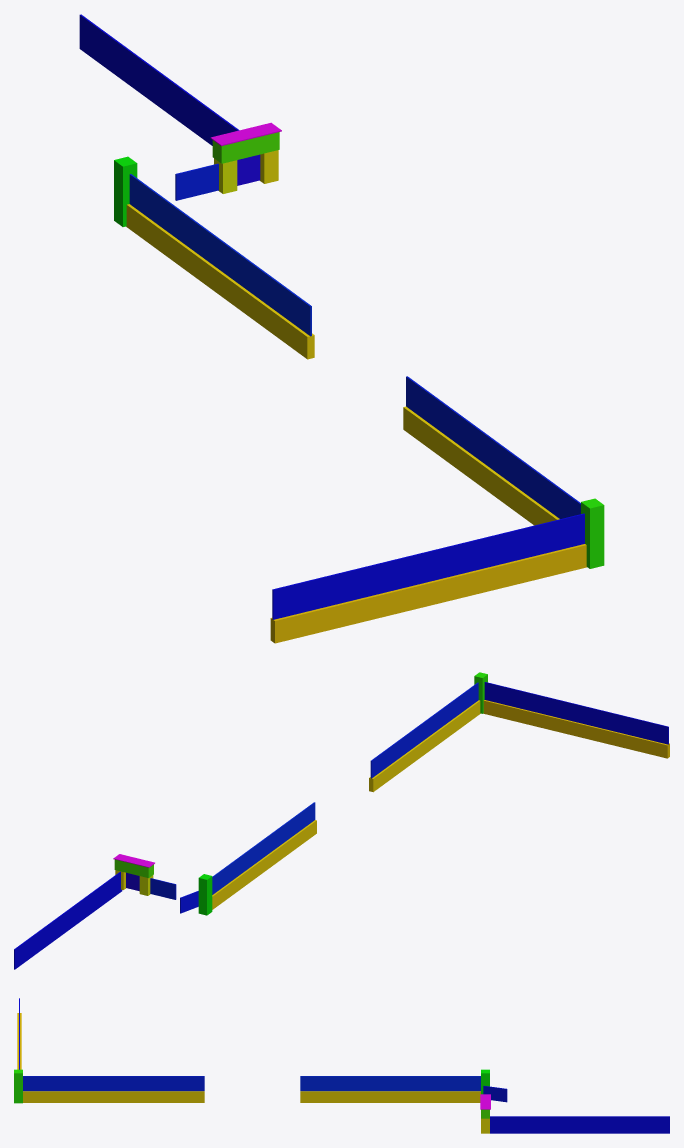
The model's file is colegio.fbx.
The picture shows the model from 3 angles, top to bottom: view 1: azimuth 30°, elevation 25°; view 2: azimuth 150°, elevation 25°; view 3: azimuth 270°, elevation 25°; orthographic projection. The views are drawn at different scales.
Parts seen in each view (by area): view 1: Cube.014, Cube.015, Cube.009, Cube.011, Cube.008, Cube.010, Cube.012, Cube.013, Cube.002, Cube.005, Cube.006; view 2: Cube.014, Cube.015, Cube.008, Cube.011, Cube.009, Cube.012, Cube.010, Cube.006, Cube.005; view 3: Cube.008, Cube.011, Cube.009, Cube.012, Cube.010, Cube.013, Cube.007, Cube.015.
Part boxes in pixels (x1,y1,x2,y2): Cube.014: (272,513,584,619); Cube.015: (270,544,586,643); Cube.009: (129,174,311,336); Cube.011: (406,376,580,518); Cube.008: (79,14,239,145); Cube.010: (126,204,314,359); Cube.012: (403,406,559,525); Cube.013: (581,498,604,568); Cube.002: (212,132,279,163); Cube.005: (175,163,218,200); Cube.006: (114,156,137,226); Cube.014: (484,682,668,744); Cube.015: (483,700,669,758); Cube.008: (14,871,122,969); Cube.011: (370,682,478,778); Cube.009: (212,802,315,894); Cube.012: (369,700,480,792); Cube.010: (212,820,316,909); Cube.006: (198,874,212,915); Cube.005: (150,878,176,899); Cube.008: (490,1116,669,1133); Cube.011: (23,1076,204,1091); Cube.009: (300,1076,480,1091); Cube.012: (23,1091,204,1102); Cube.010: (300,1091,480,1102); Cube.013: (14,1069,22,1103); Cube.007: (483,1085,507,1102); Cube.015: (17,1013,21,1069).
Size of the model in its own units: 181 by 22.59 by 437.
